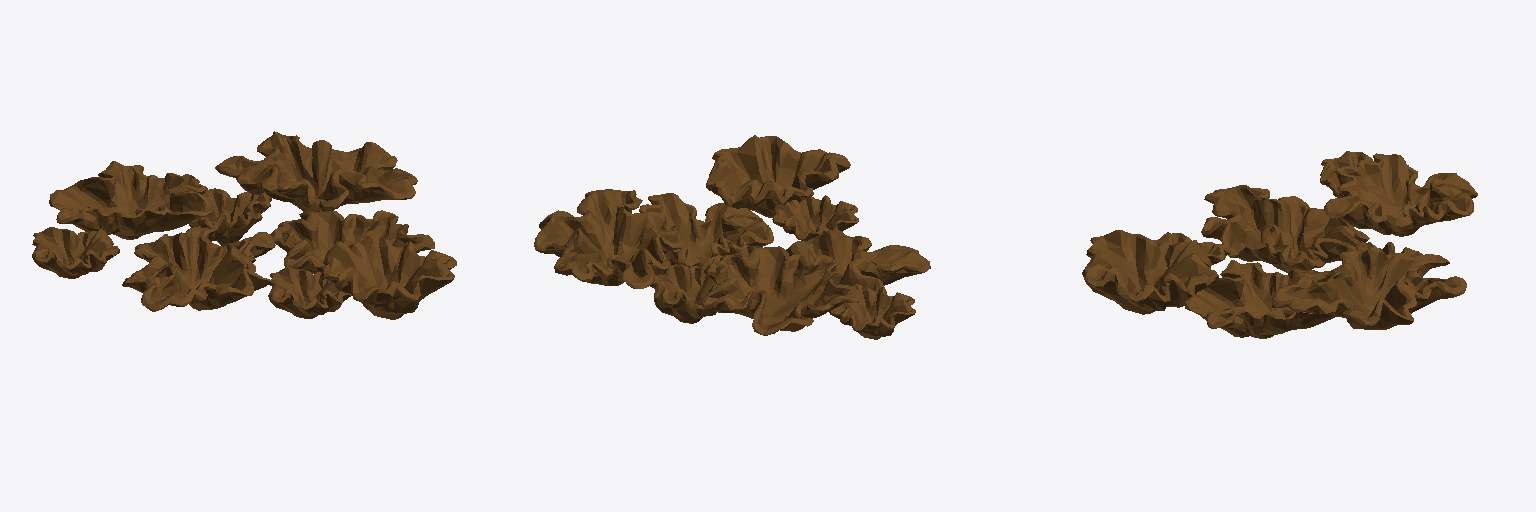
File: Object_LeatherCoral3.obj
The picture shows the model from 3 angles: view 1: azimuth 30°, elevation 25°; view 2: azimuth 150°, elevation 25°; view 3: azimuth 270°, elevation 25°; orthographic projection.
Visible parts, largest first — view 1: LeatherCoral3; view 2: LeatherCoral3; view 3: LeatherCoral3.
Boxes of the visible parts, <box> form: LeatherCoral3: <box>32,131,456,319</box>; LeatherCoral3: <box>534,135,930,339</box>; LeatherCoral3: <box>1082,151,1477,338</box>.
Size of the model in its own units: 3.42 by 0.7689 by 3.2.